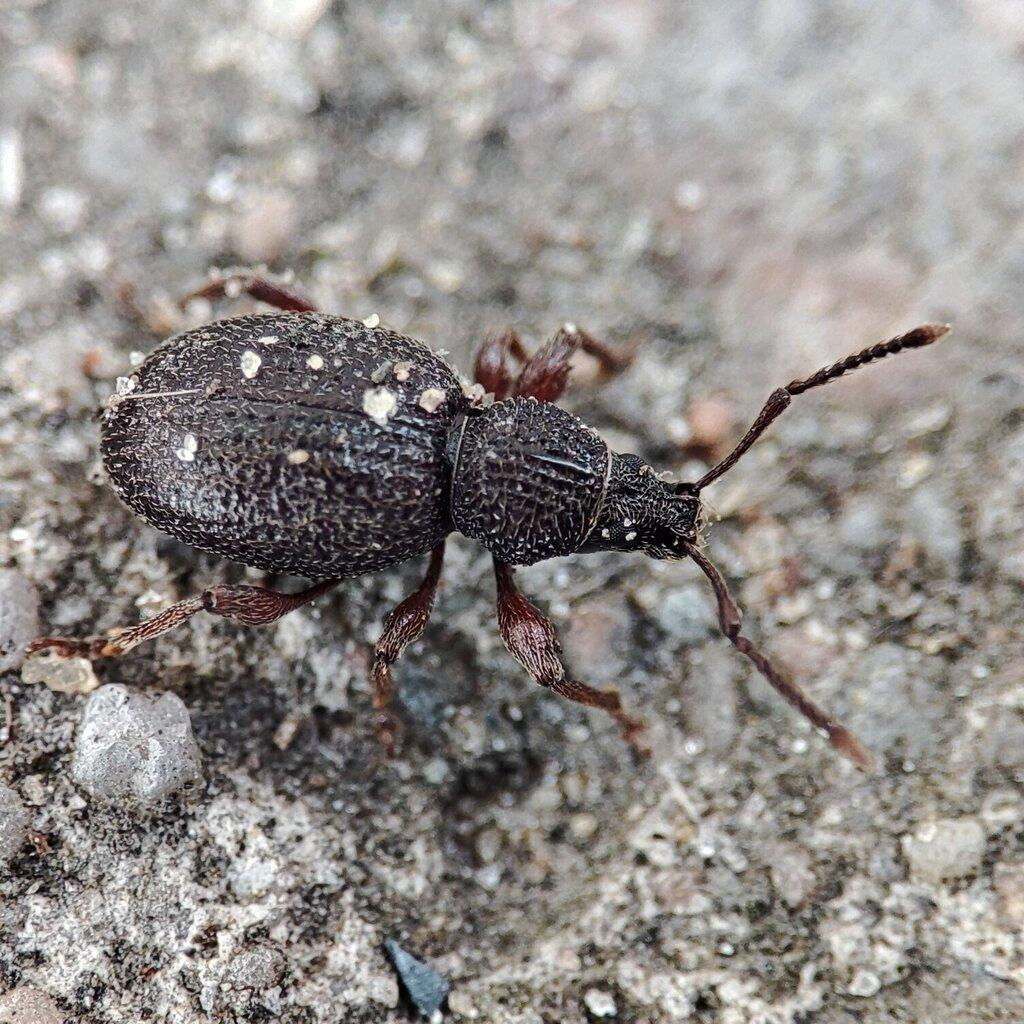weevils: (0, 153, 1024, 823)
